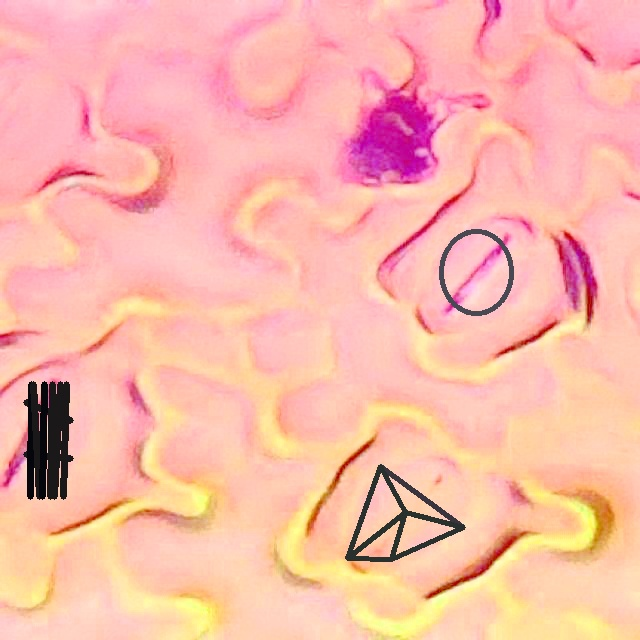close: (345, 464, 465, 561)
open: (438, 228, 514, 316), (23, 381, 73, 499)
